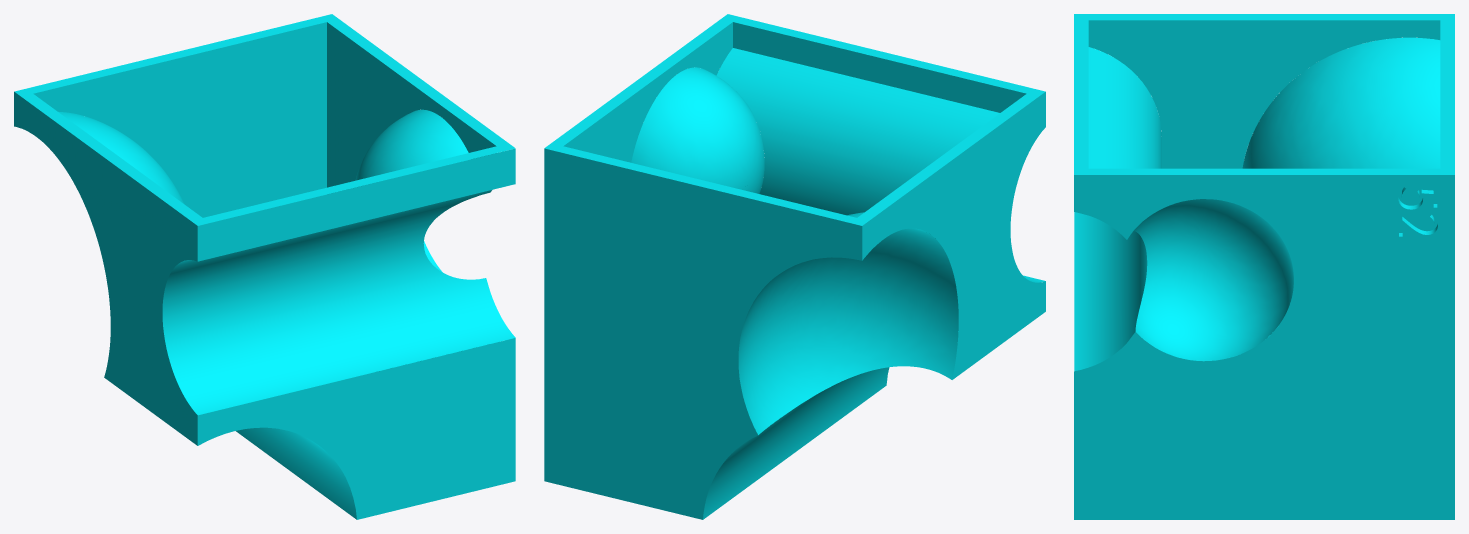
3 renders of one model, left to right at view 1: azimuth 30°, elevation 25°; view 2: azimuth 150°, elevation 25°; view 3: azimuth 270°, elevation 25°, orthographic. The views are drawn at different scales.
Visible parts, largest first — view 1: 70_vars_w-txt; view 2: 70_vars_w-txt; view 3: 70_vars_w-txt.
Boxes of the visible parts, x1,y1,x2,y2 form: 70_vars_w-txt: [14, 14, 515, 519]; 70_vars_w-txt: [544, 14, 1045, 519]; 70_vars_w-txt: [1074, 14, 1454, 519].
Bounding box in the file's own units: 0.042 × 0.042 × 0.042.
